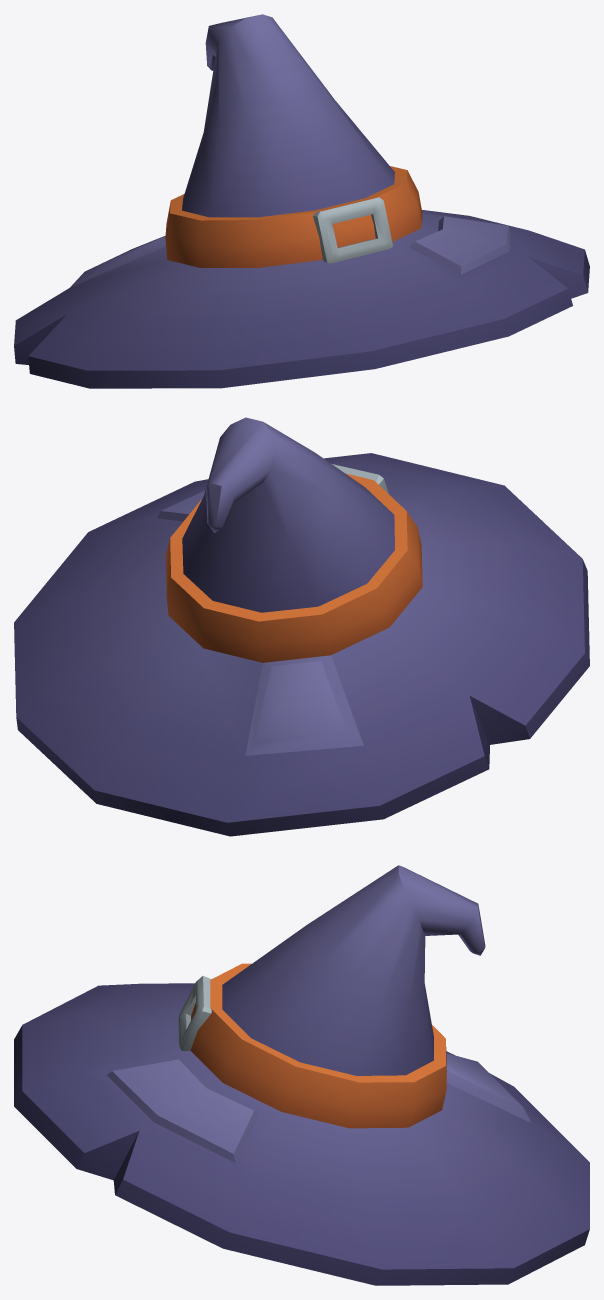
File: wizard_hat.glb
The picture shows the model from 3 angles, top to bottom: view 1: azimuth 30°, elevation 25°; view 2: azimuth 150°, elevation 25°; view 3: azimuth 270°, elevation 25°; orthographic projection. The views are drawn at different scales.
Parts seen in each view (by area): view 1: Item; view 2: Item; view 3: Item.
Boxes of the visible parts, x1,y1,x2,y2 form: Item: (14, 14, 589, 388); Item: (14, 417, 589, 836); Item: (14, 865, 589, 1285).
Bounding box in the file's own units: 2.09 × 1.34 × 2.04.
Materials: 1 (1 with a texture image).
